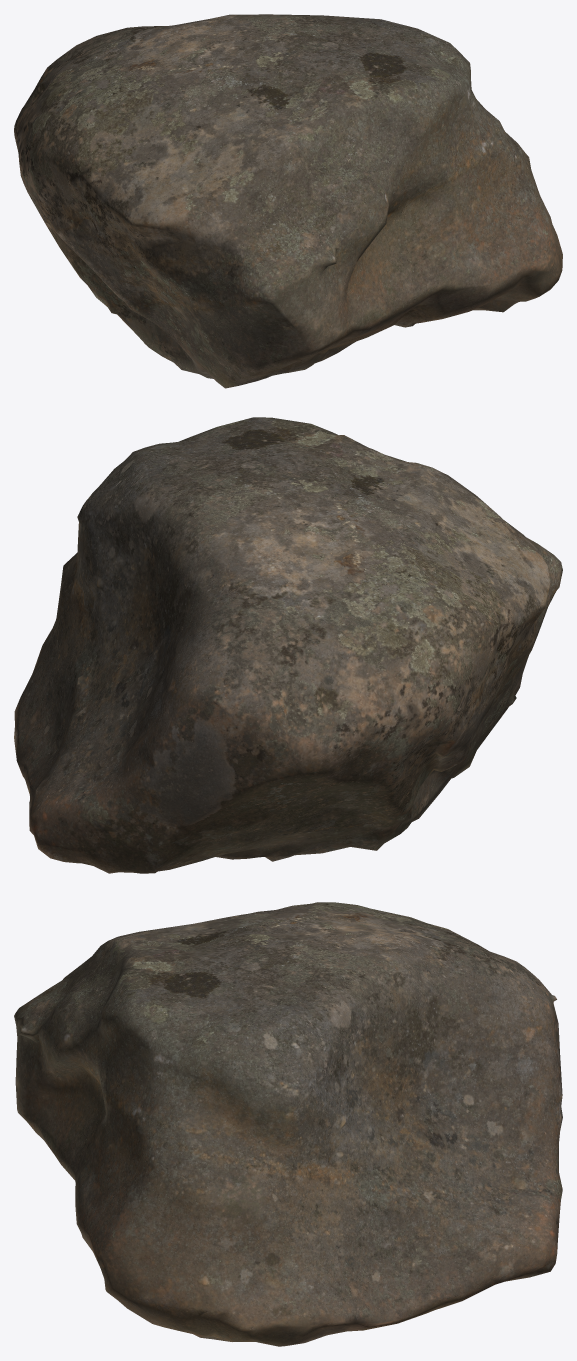
The model's file is SM_ydelcez_tier_2.gltf.
3 renders of one model, top to bottom at view 1: azimuth 30°, elevation 25°; view 2: azimuth 150°, elevation 25°; view 3: azimuth 270°, elevation 25°, orthographic. The views are drawn at different scales.
Parts seen in each view (by area): view 1: ydelcez_LOD2_TIER2_000; view 2: ydelcez_LOD2_TIER2_000; view 3: ydelcez_LOD2_TIER2_000.
Part boxes in pixels (bbox=[...]): ydelcez_LOD2_TIER2_000: bbox=[14, 14, 562, 388]; ydelcez_LOD2_TIER2_000: bbox=[14, 417, 562, 873]; ydelcez_LOD2_TIER2_000: bbox=[14, 902, 562, 1346].
Size of the model in its own units: 0.4794 by 0.309 by 0.4805.
Materials: 1 (1 with a texture image).
